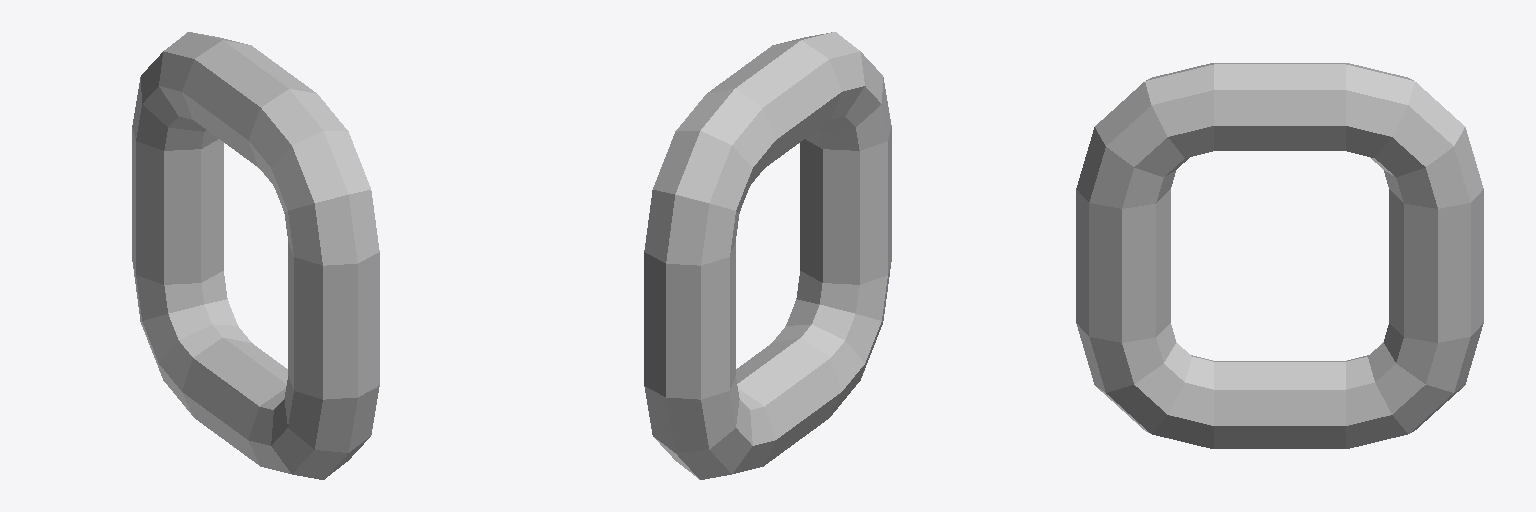
Rendered from lantern_handle.obj.
The picture shows the model from 3 angles: view 1: azimuth 30°, elevation 25°; view 2: azimuth 150°, elevation 25°; view 3: azimuth 270°, elevation 25°; orthographic projection.
Visible parts, largest first — view 1: lantern_handle; view 2: lantern_handle; view 3: lantern_handle.
Boxes of the visible parts, x1,y1,x2,y2 form: lantern_handle: [132, 32, 379, 479]; lantern_handle: [644, 32, 891, 479]; lantern_handle: [1076, 63, 1483, 448].
Bounding box in the file's own units: 0.057 × 0.2546 × 0.2456.